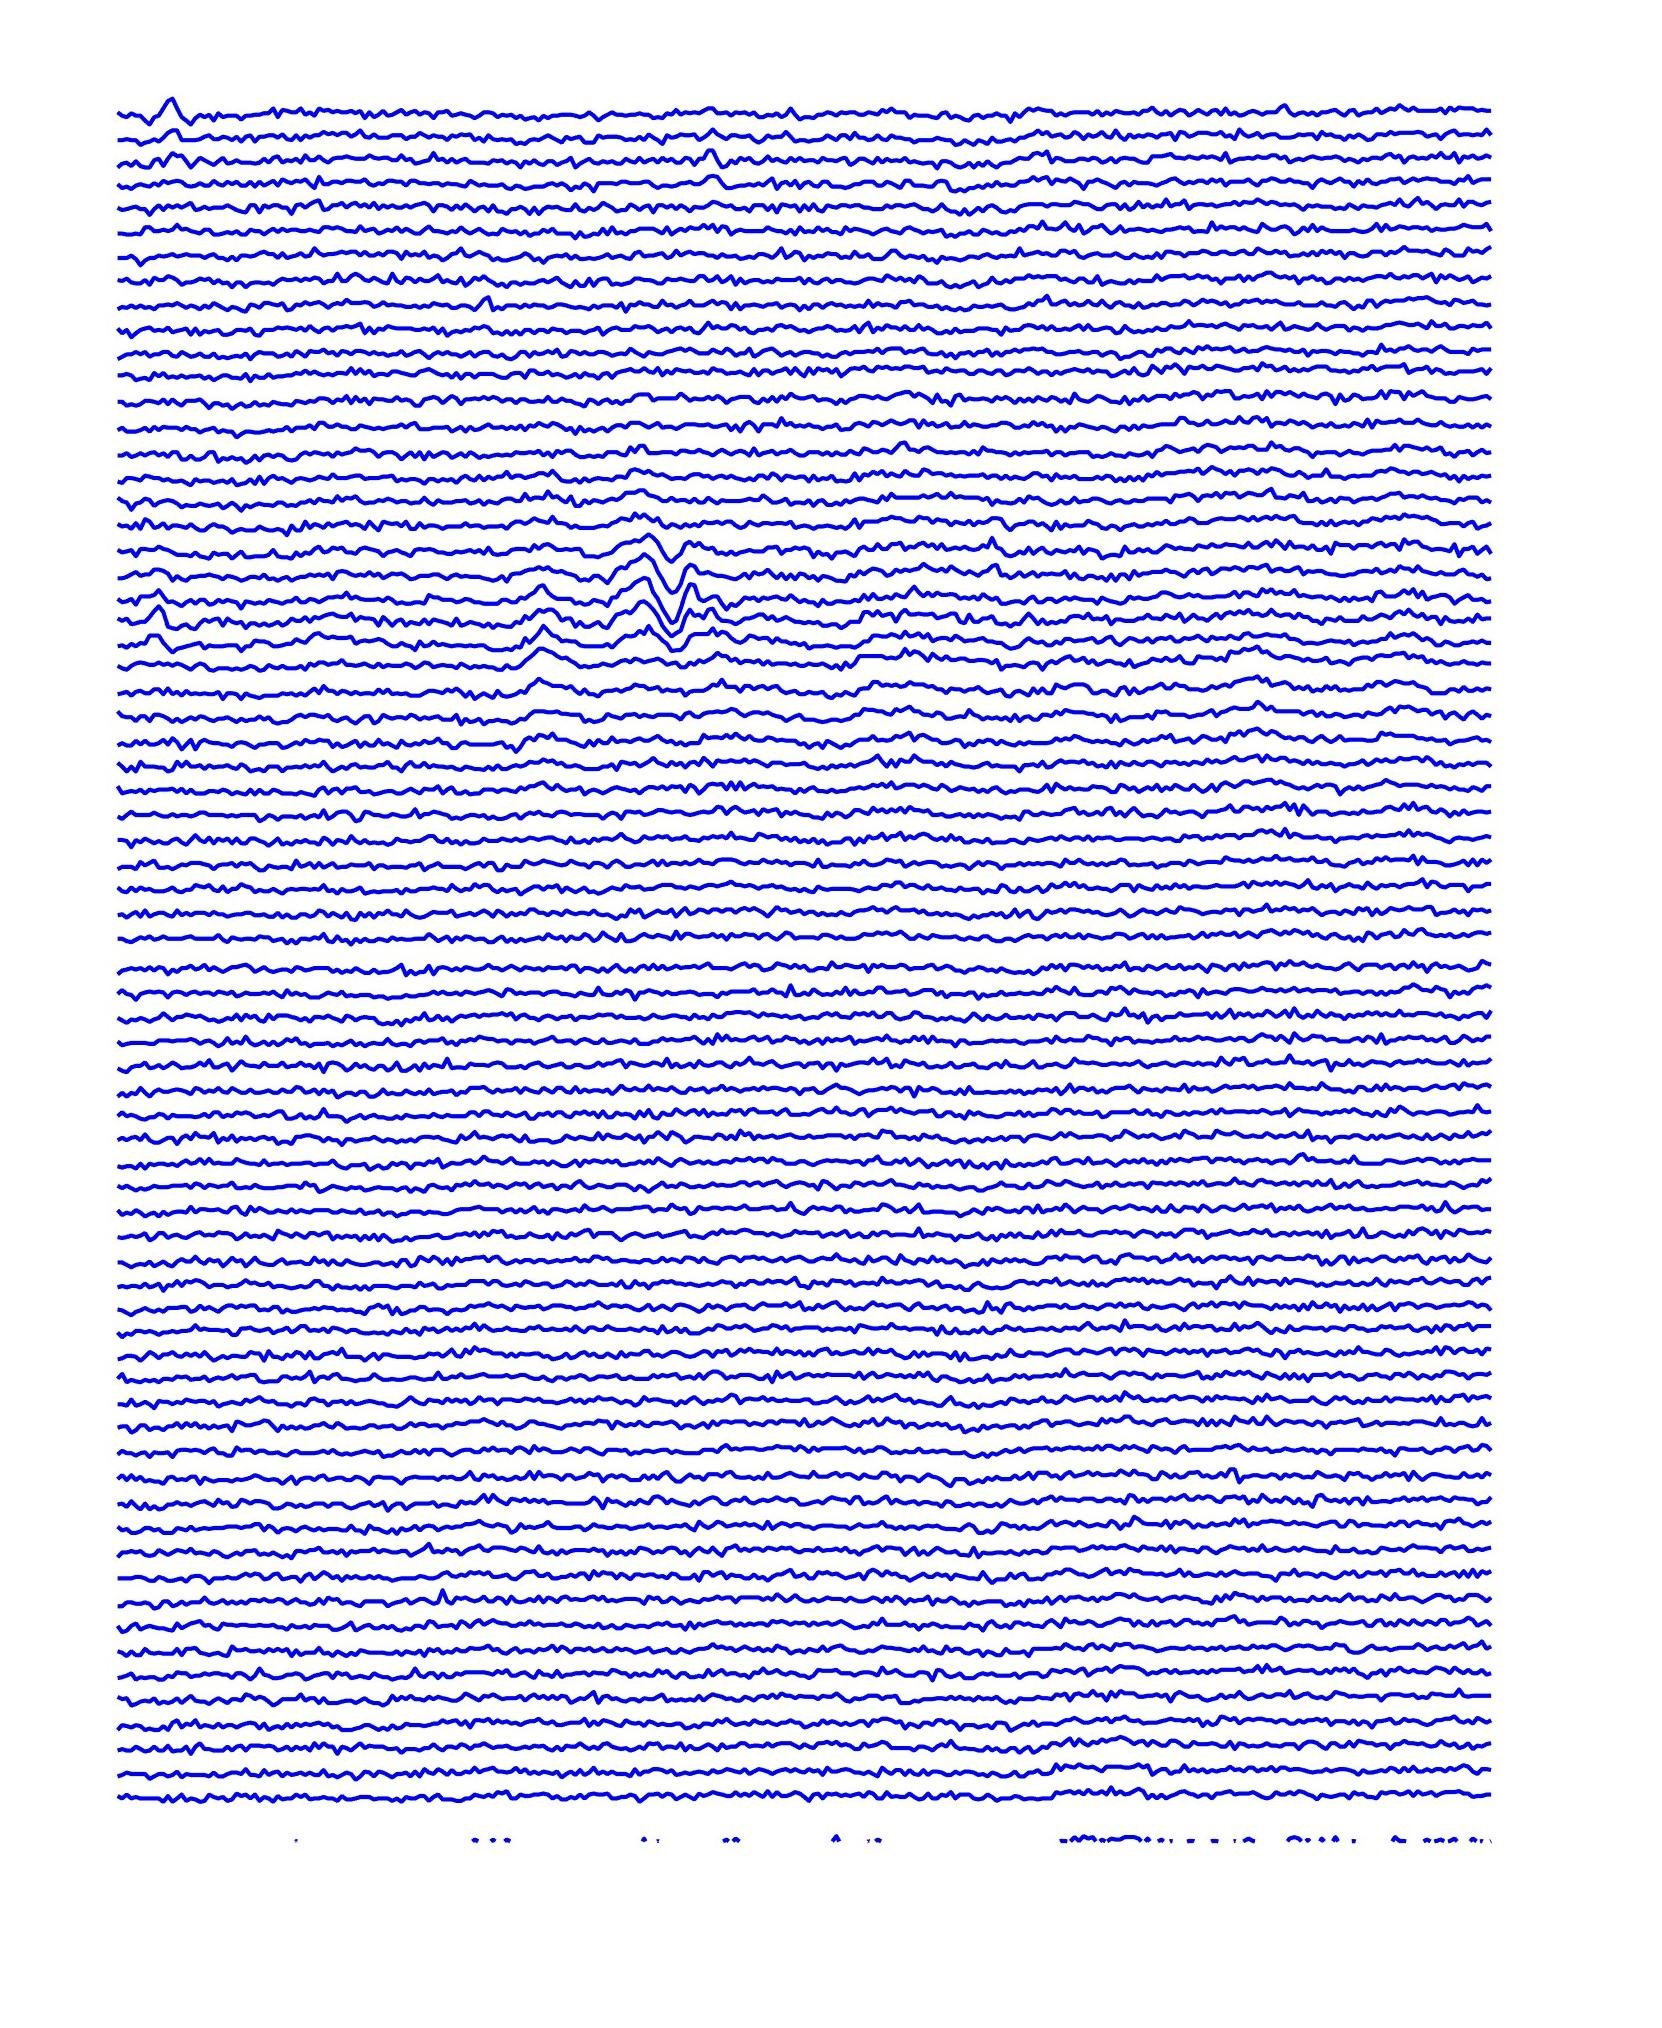defect: (631, 505, 716, 665), (136, 74, 216, 231), (502, 554, 578, 682), (128, 569, 195, 692)
